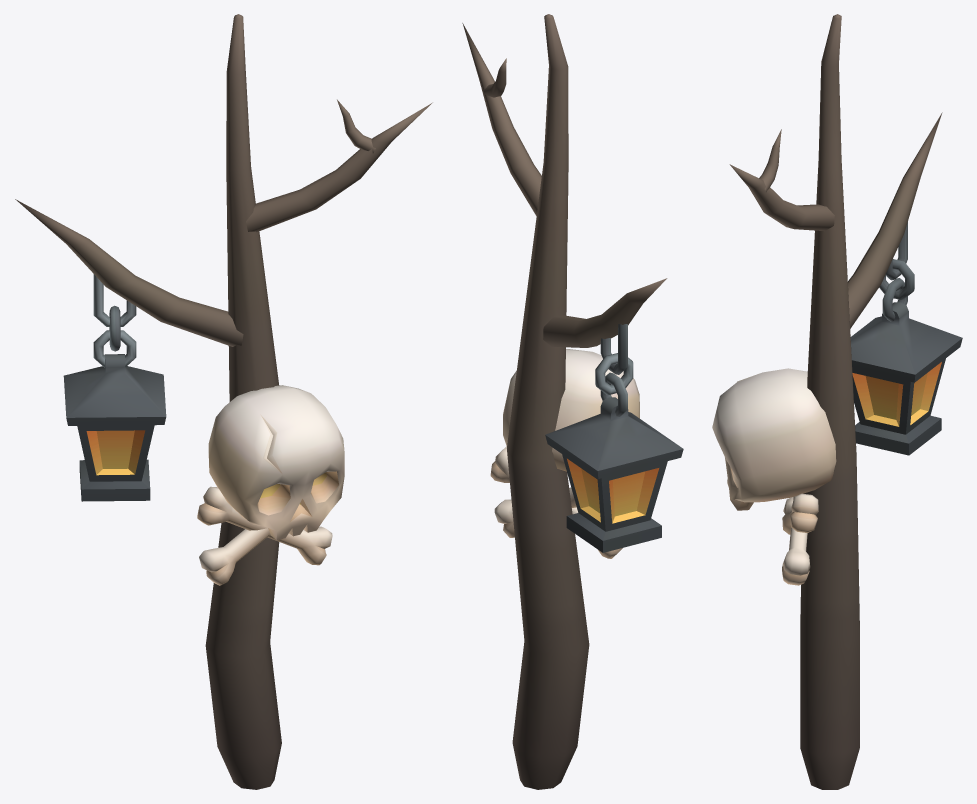
File: kay-arvore-morta-enfeitada.gltf
The picture shows the model from 3 angles, left to right: view 1: azimuth 30°, elevation 25°; view 2: azimuth 150°, elevation 25°; view 3: azimuth 270°, elevation 25°; orthographic projection.
Parts seen in each view (by area): view 1: tree_dead_large_decorated; view 2: tree_dead_large_decorated; view 3: tree_dead_large_decorated.
Boxes of the visible parts, left/top/right/bottom form: tree_dead_large_decorated: left=15, top=14, right=432, bottom=789; tree_dead_large_decorated: left=462, top=14, right=683, bottom=789; tree_dead_large_decorated: left=712, top=14, right=962, bottom=789.
Size of the model in its own units: 1.15 by 2.71 by 0.8072.
1 material, 1 textured.
